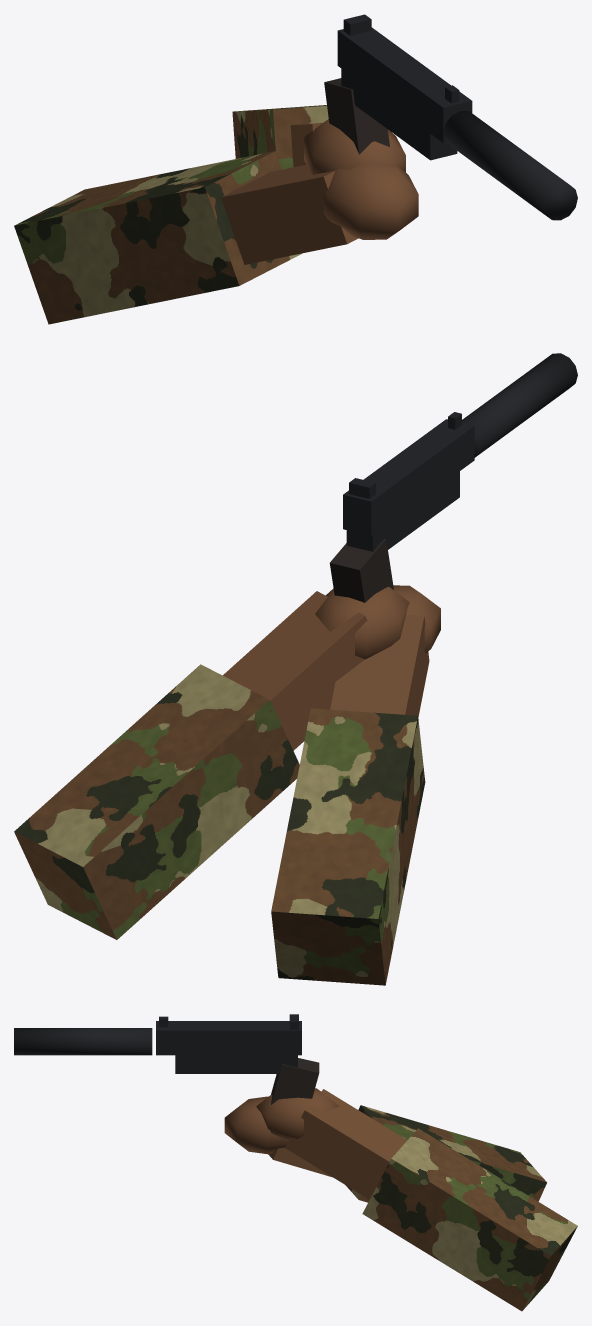
The model's file is fp_pistol.fbx.
3 renders of one model, top to bottom at view 1: azimuth 30°, elevation 25°; view 2: azimuth 150°, elevation 25°; view 3: azimuth 270°, elevation 25°, orthographic. The views are drawn at different scales.
Visible parts, largest first — view 1: Weapon; view 2: Weapon; view 3: Weapon.
Part boxes in pixels (x1,y1,x2,y2): Weapon: (14,14,577,324); Weapon: (14,353,577,985); Weapon: (14,1014,577,1311).
Bounding box in the file's own units: 0.3638 × 0.366 × 0.7344.
